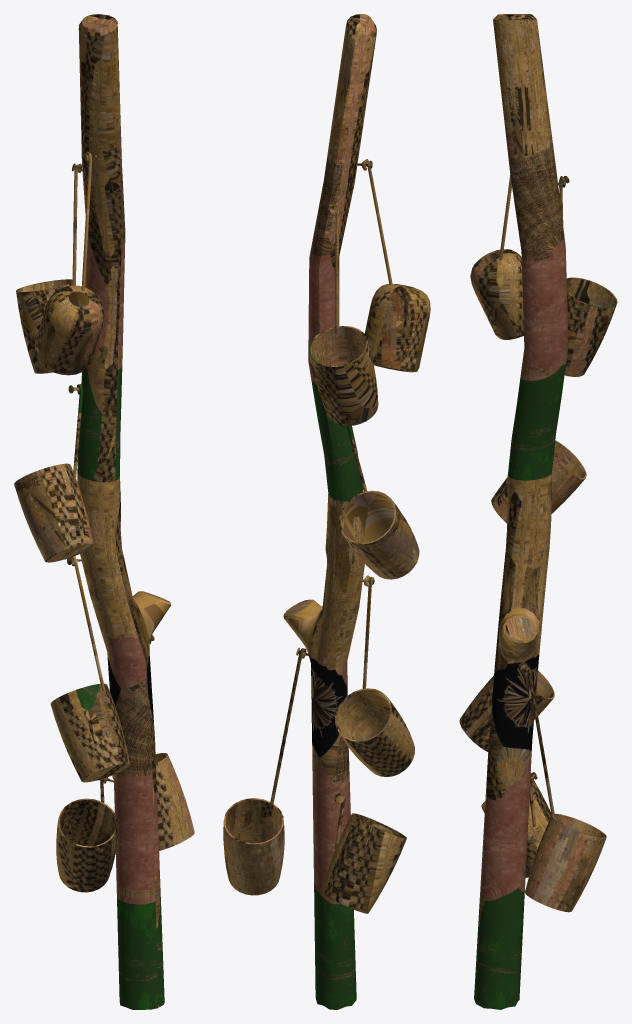
The model's file is xi_oam_pole.gltf.
The picture shows the model from 3 angles, left to right: view 1: azimuth 30°, elevation 25°; view 2: azimuth 150°, elevation 25°; view 3: azimuth 270°, elevation 25°; orthographic projection. The views are drawn at different scales.
Parts seen in each view (by area): view 1: xi_oam_pole; view 2: xi_oam_pole; view 3: xi_oam_pole.
Boxes of the visible parts, box(x1,y1,x2,y2) form: xi_oam_pole: box(14, 14, 194, 1009); xi_oam_pole: box(223, 14, 430, 1009); xi_oam_pole: box(459, 14, 617, 1009).
Size of the model in its own units: 0.3974 by 2.23 by 0.3271.
1 material, 1 textured.
